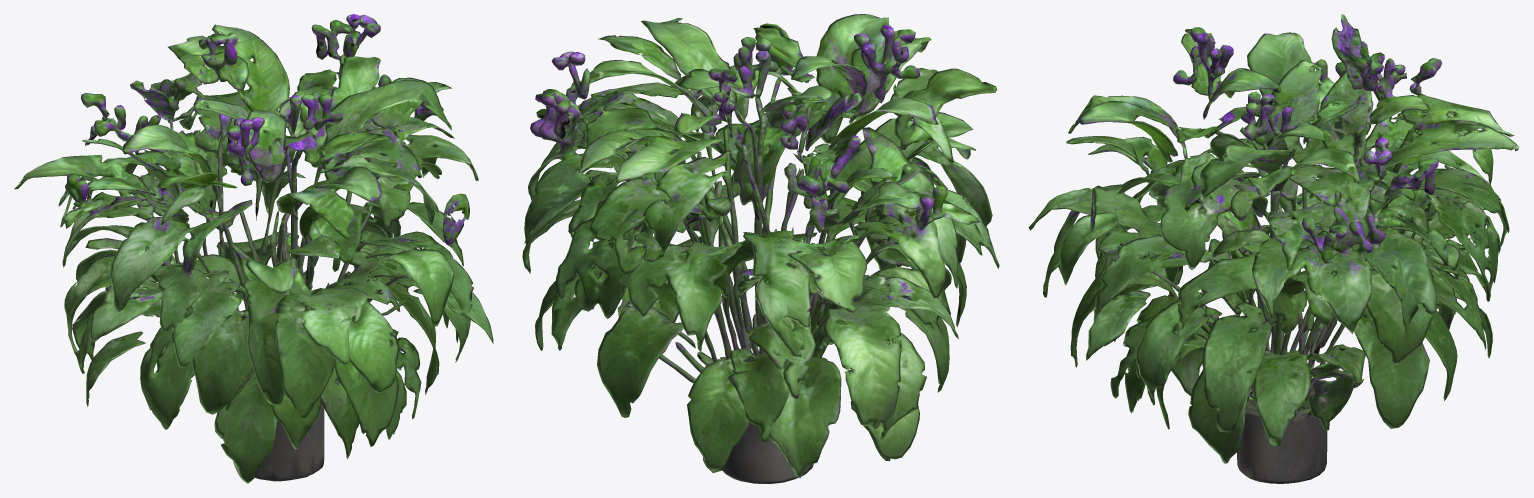
File: tulsi.glb
The picture shows the model from 3 angles, left to right: view 1: azimuth 30°, elevation 25°; view 2: azimuth 150°, elevation 25°; view 3: azimuth 270°, elevation 25°; orthographic projection. The views are drawn at different scales.
Bounding box in the file's own units: 1.91 × 1.82 × 2.
Materials: 1 (1 with a texture image).
